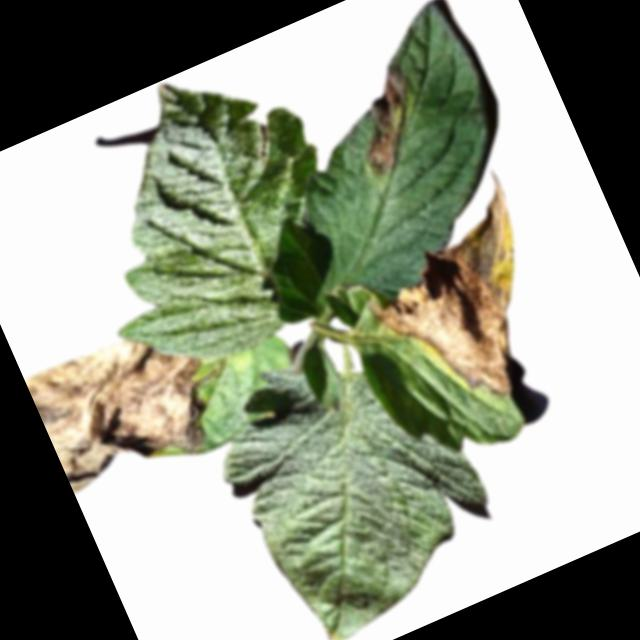Late_blight: (337, 170, 578, 434), (22, 307, 233, 507), (337, 63, 435, 175)
